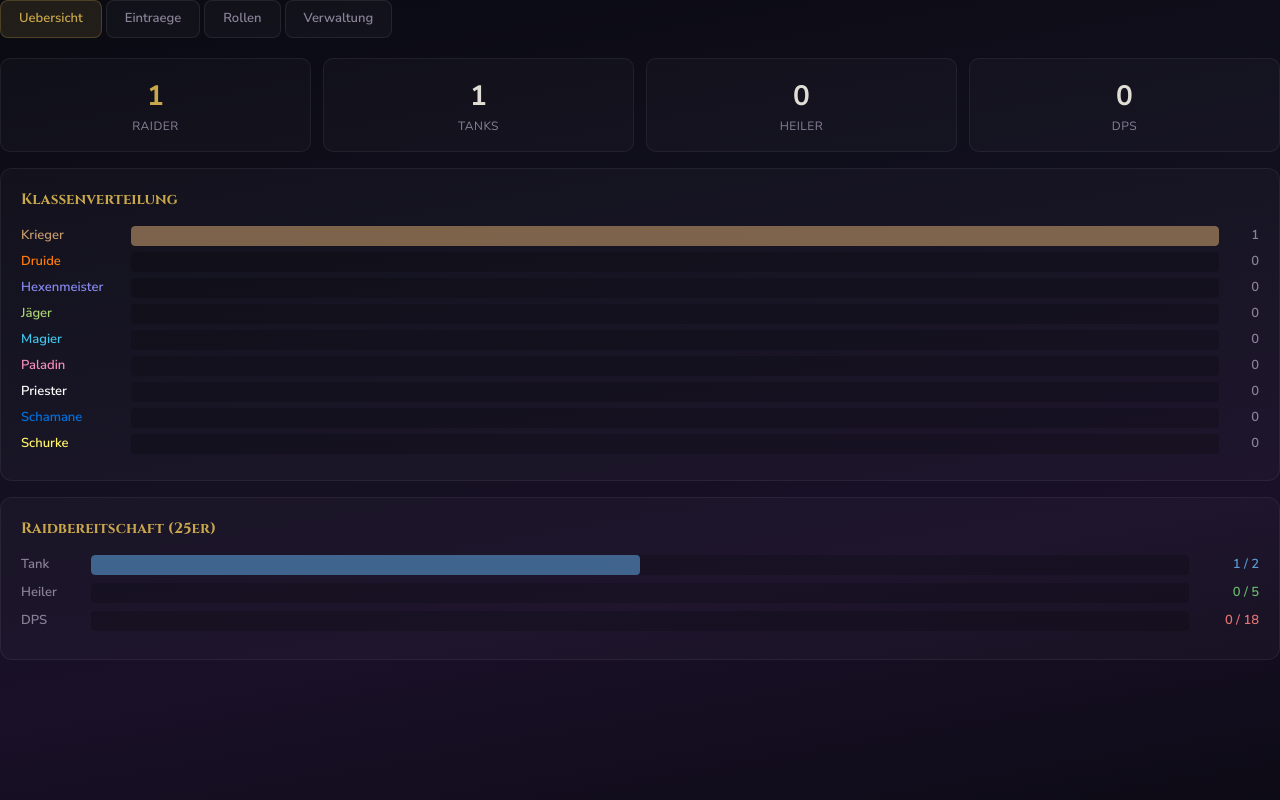
it: AdminView › switches to entries tab
Click the button with class "adm-tab" showing "Eintraege" at (153, 19), box [106,0,200,38]
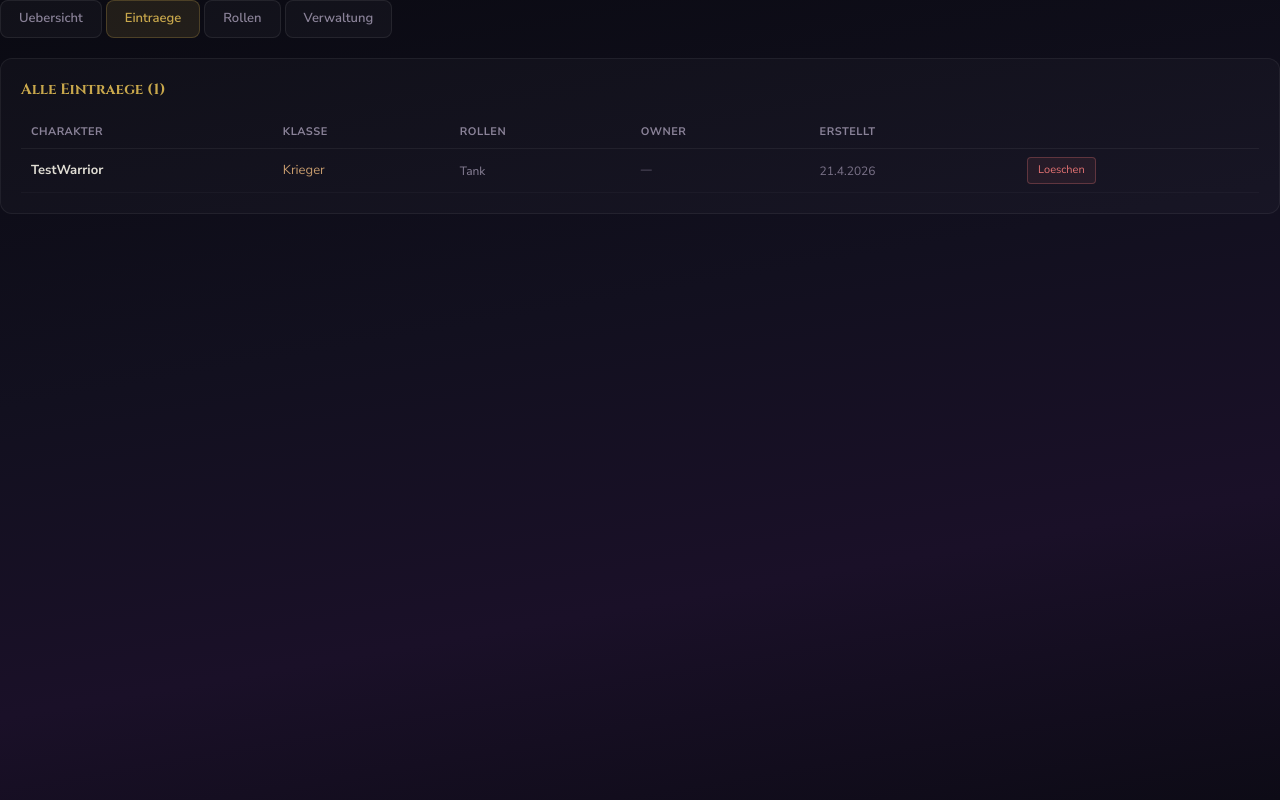
Expected: the text "Alle Eintraege" is shown, [21,78,166,100]
Expected: the text "TestWarrior" is shown, [31,161,103,179]
